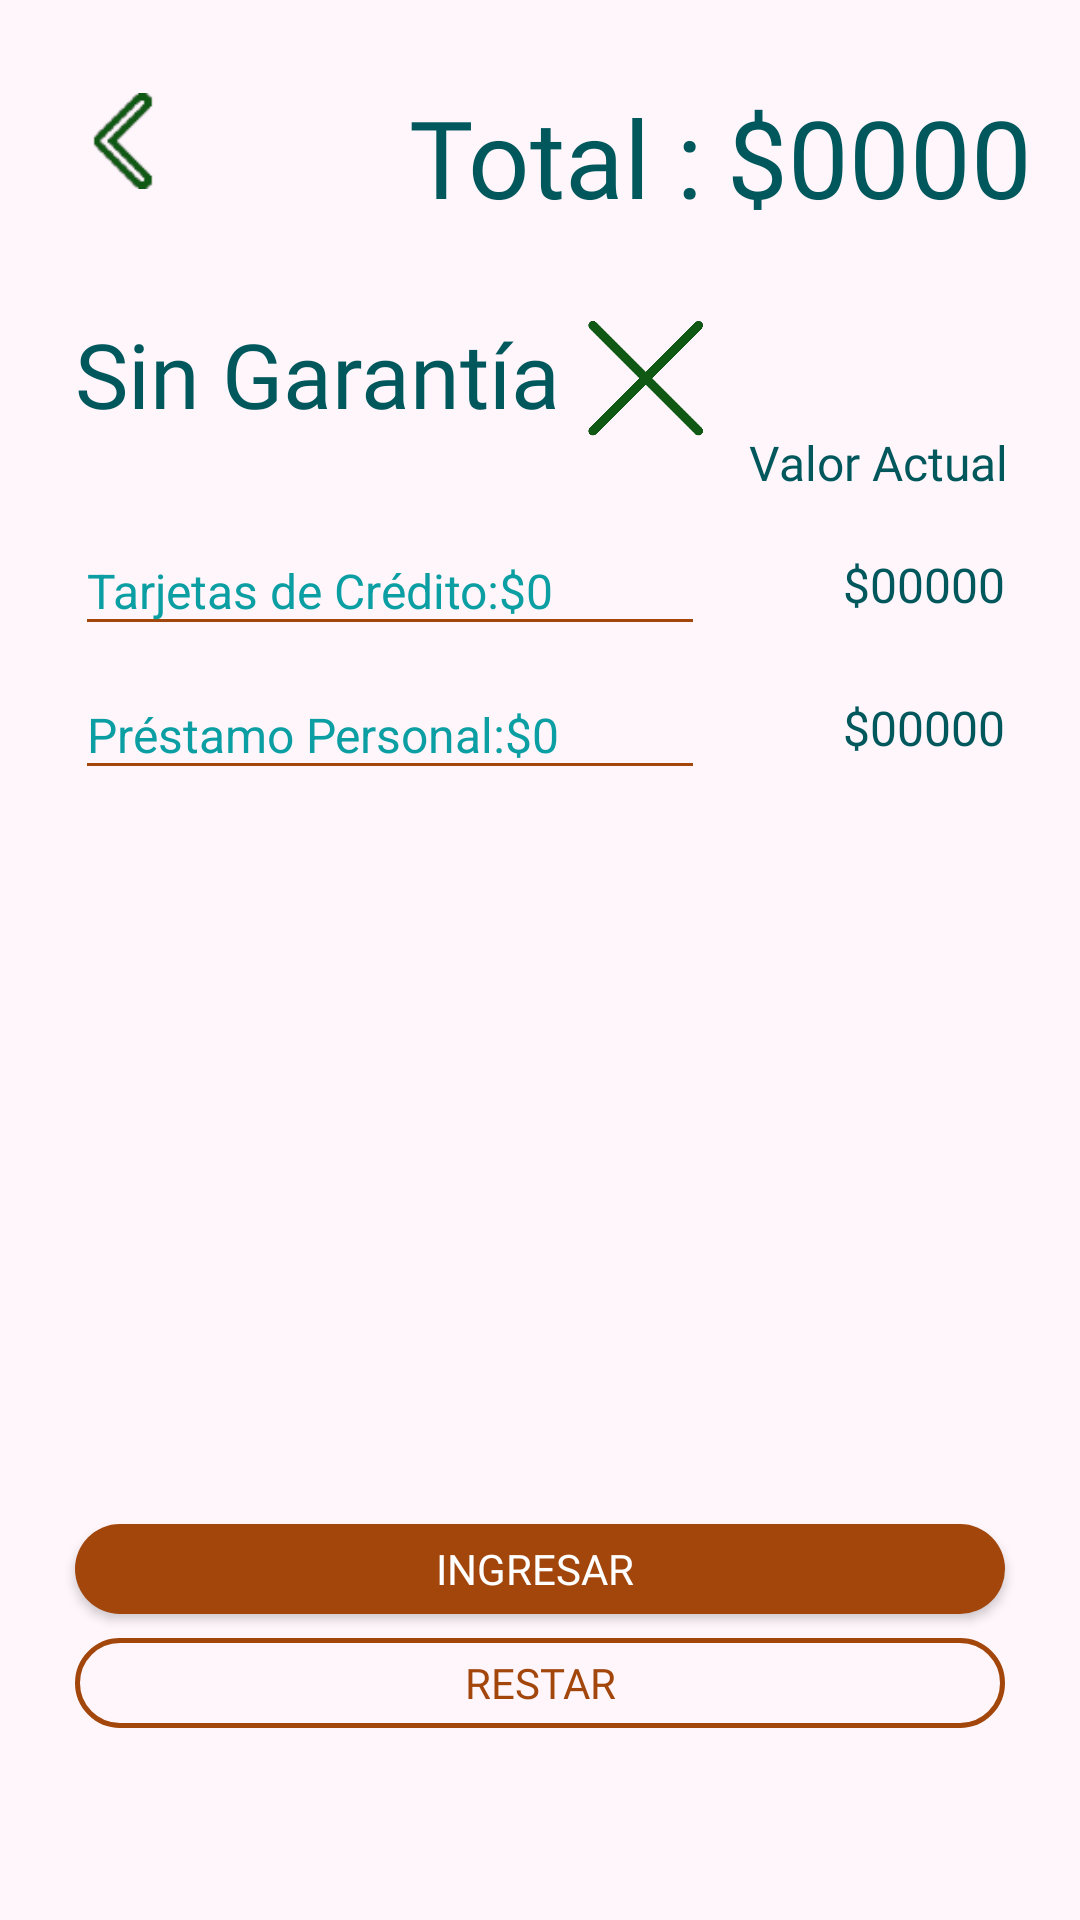

Screen size 1080 × 1920. Icon name, then its box in pixels as (x1, y1, x2, y2):
flecha: (93, 93, 153, 189)
